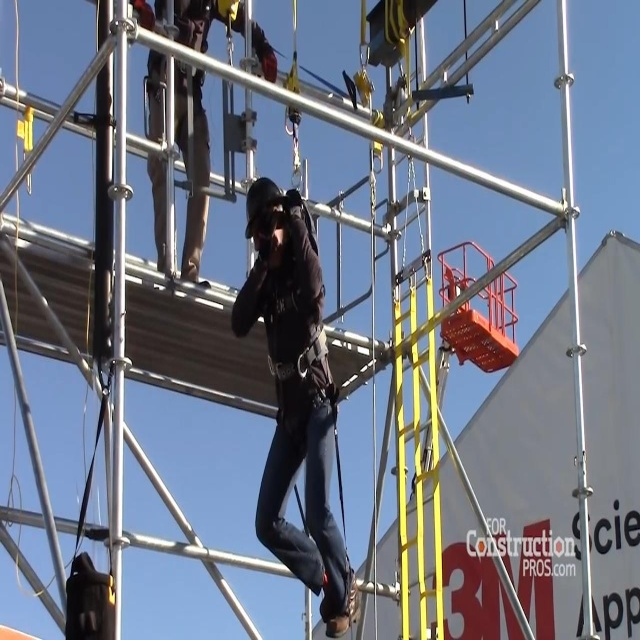Arnes_seguridad: (248, 201, 339, 456), (141, 0, 221, 136)
